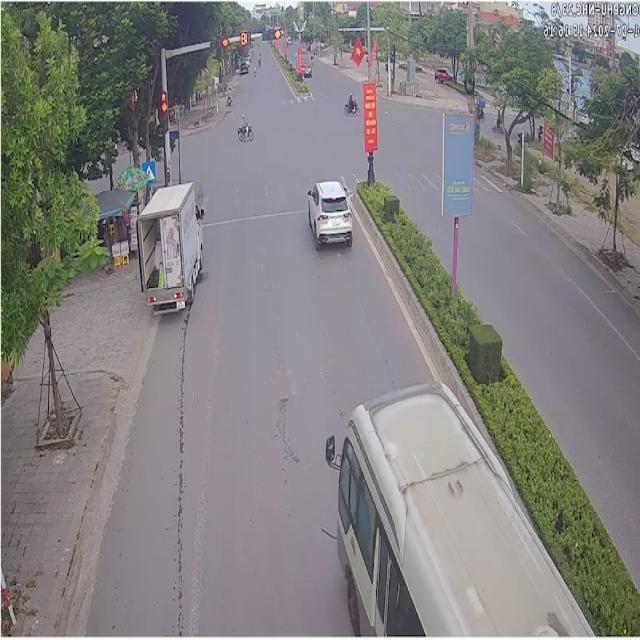car: (324, 382, 590, 636), (136, 180, 203, 311), (307, 176, 350, 247)
motobike: (236, 114, 252, 140), (342, 92, 358, 113)
red_light: (159, 90, 168, 137), (207, 35, 228, 50), (259, 28, 281, 40), (240, 32, 249, 46)
stop_line: (202, 208, 303, 225)
